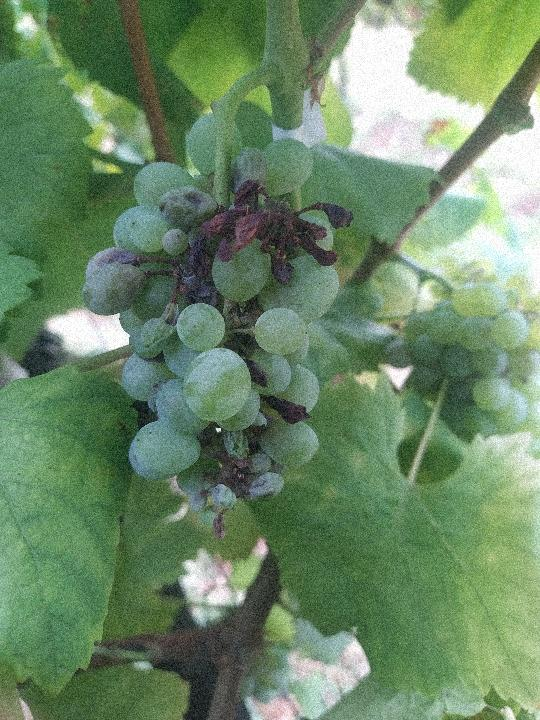grape: (79, 108, 353, 542)
